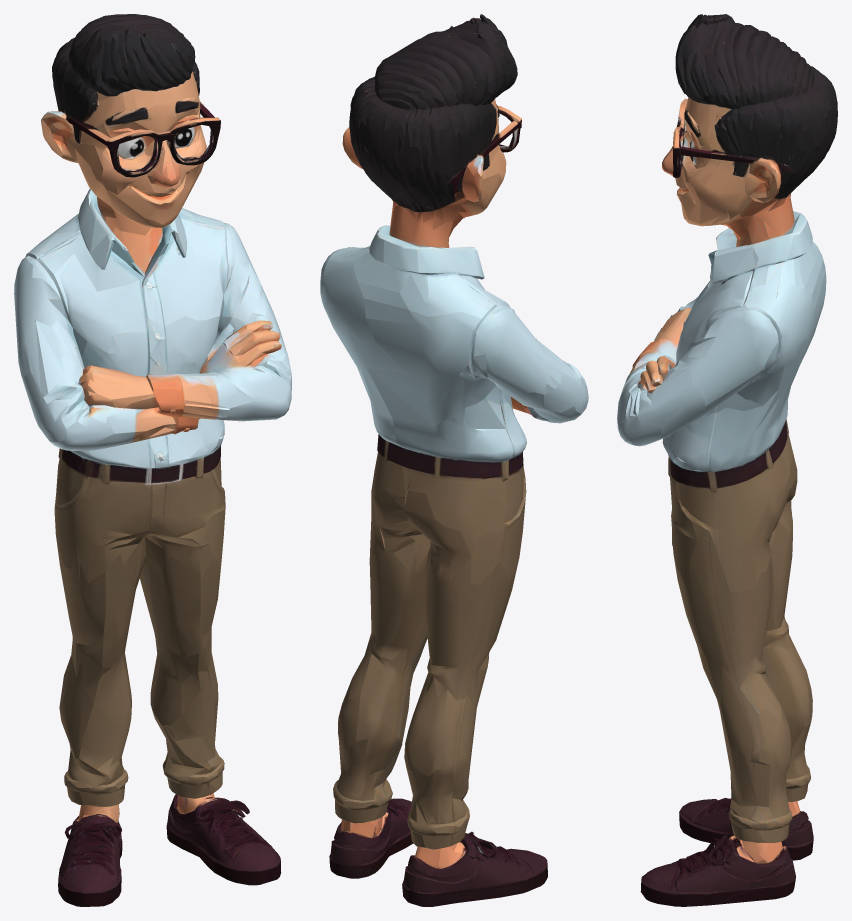
File: npc-health-note.glb
3 renders of one model, left to right at view 1: azimuth 30°, elevation 25°; view 2: azimuth 150°, elevation 25°; view 3: azimuth 270°, elevation 25°, orthographic. The views are drawn at different scales.
Bounding box in the file's own units: 0.5413 × 1.9 × 0.4563.
1 material, 1 textured.
